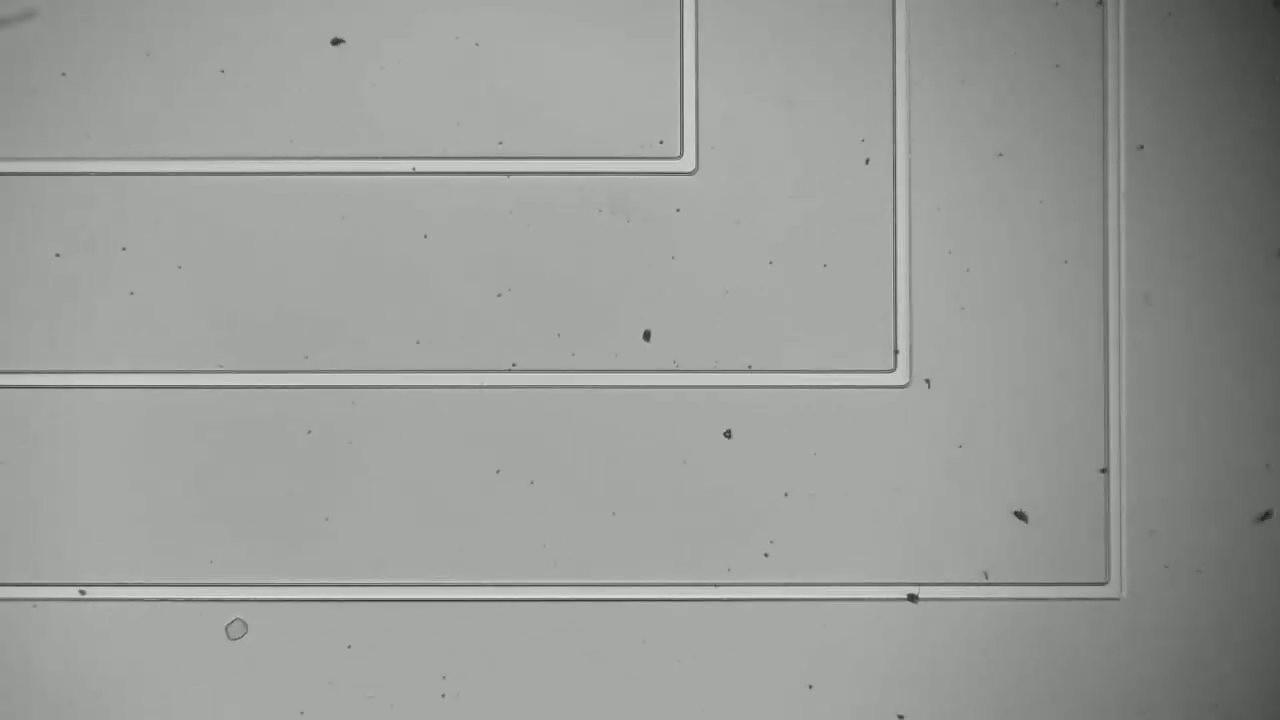stains_enbedded: (904, 577, 926, 608)
